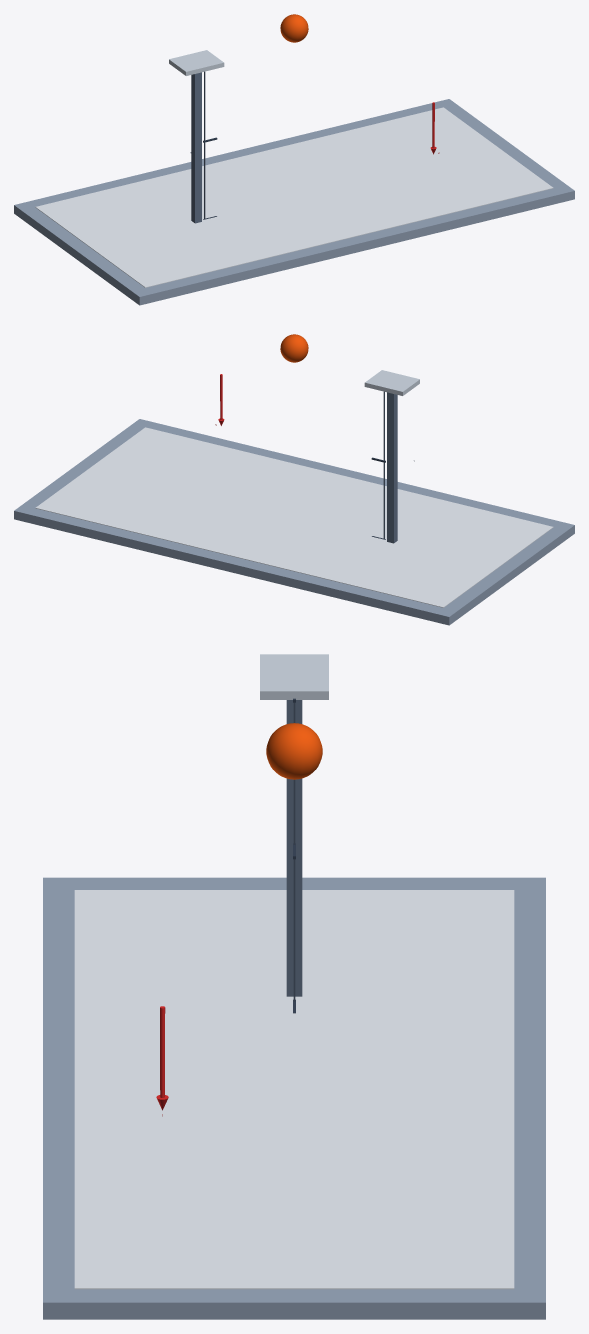
Rendered from free-fall.glb.
The picture shows the model from 3 angles, top to bottom: view 1: azimuth 30°, elevation 25°; view 2: azimuth 150°, elevation 25°; view 3: azimuth 270°, elevation 25°; orthographic projection. The views are drawn at different scales.
Parts seen in each view (by area): view 1: Lantai, Menara, Bola; view 2: Lantai, Menara, Bola; view 3: Lantai, Menara, Bola.
Boxes of the visible parts, x1,y1,x2,y2 form: Lantai: [14, 99, 574, 305]; Menara: [169, 50, 224, 223]; Bola: [280, 14, 308, 42]; Lantai: [14, 419, 574, 625]; Menara: [364, 370, 419, 543]; Bola: [280, 334, 308, 362]; Lantai: [43, 877, 545, 1319]; Menara: [260, 654, 328, 1013]; Bola: [266, 723, 322, 779].
Size of the model in its own units: 0.64 by 0.268 by 0.32.
